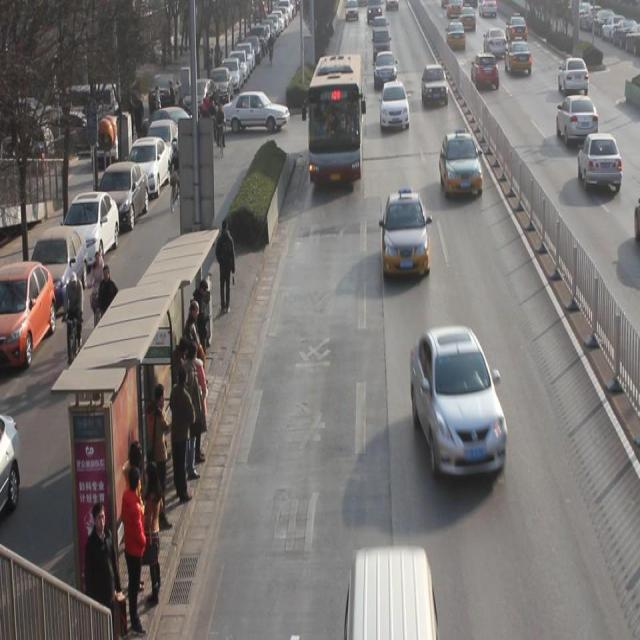car: (409, 328, 508, 476), (383, 187, 430, 279), (439, 131, 484, 200), (577, 132, 622, 192), (556, 96, 598, 146), (380, 80, 410, 130), (558, 57, 589, 95), (422, 63, 448, 108), (504, 38, 532, 75), (471, 52, 499, 89), (373, 51, 398, 89), (505, 12, 528, 46), (482, 27, 507, 58), (446, 18, 466, 50), (373, 16, 388, 36)
truck: (373, 26, 390, 61)
van: (305, 57, 362, 186)
